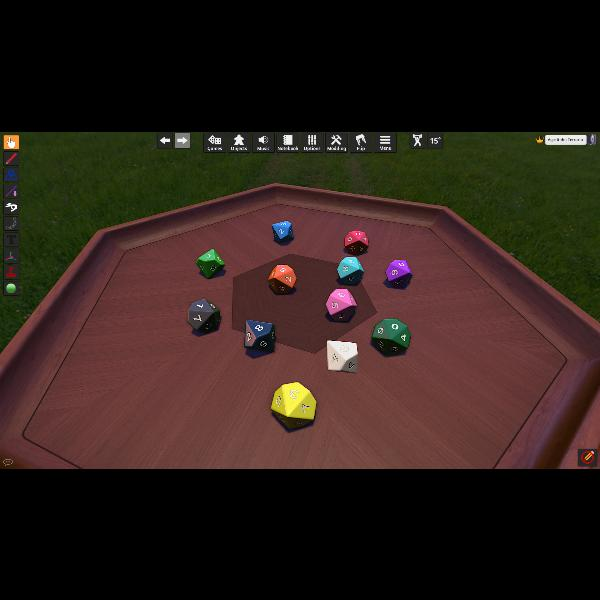d10: (272, 381, 316, 427), (370, 319, 408, 355), (186, 299, 220, 333), (326, 339, 358, 371), (244, 318, 274, 352), (326, 288, 357, 320), (196, 248, 226, 278), (268, 263, 298, 293), (384, 258, 412, 288), (336, 256, 364, 284), (344, 230, 370, 254), (272, 220, 294, 242)
